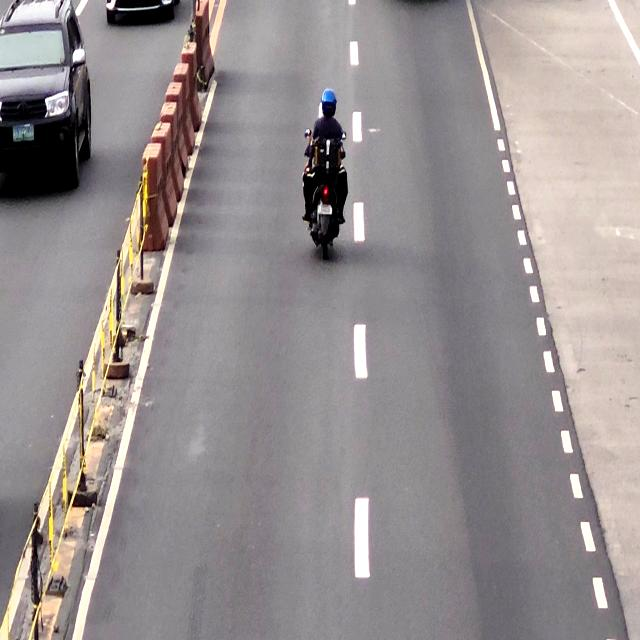Motorcycle: (306, 88, 347, 261)
